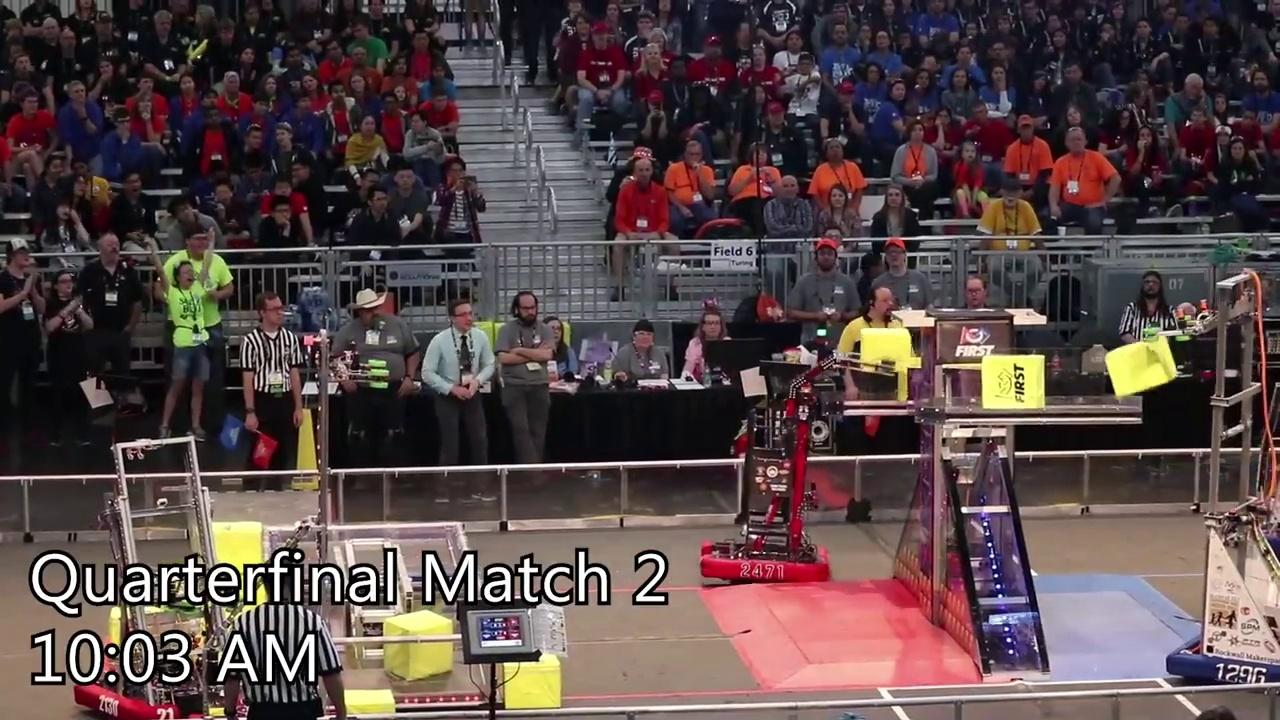robot: (1156, 276, 1280, 690), (697, 373, 836, 589)
